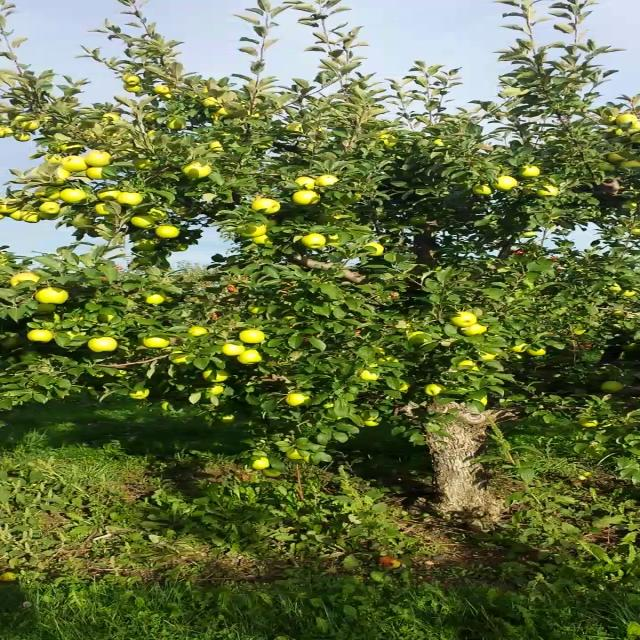apple: (35, 286, 71, 305), (178, 160, 210, 179), (250, 198, 282, 214), (86, 337, 118, 353), (457, 322, 488, 338), (61, 187, 88, 205), (85, 149, 111, 167), (300, 232, 326, 250), (60, 156, 88, 172), (7, 272, 39, 286), (292, 189, 320, 205), (142, 334, 171, 349), (492, 176, 519, 192), (241, 221, 267, 237), (237, 349, 263, 365), (452, 312, 478, 328), (48, 167, 71, 185), (17, 115, 41, 132), (33, 186, 62, 200), (116, 193, 145, 207), (24, 329, 53, 343), (240, 327, 265, 343), (153, 225, 181, 239), (285, 393, 312, 407), (203, 369, 230, 383), (94, 188, 120, 202), (165, 116, 187, 132), (129, 215, 155, 228), (518, 165, 542, 179), (404, 331, 432, 343), (37, 202, 64, 214), (70, 217, 94, 230), (424, 384, 449, 396), (316, 174, 340, 186), (252, 233, 276, 245), (294, 177, 316, 190), (145, 291, 167, 304), (208, 140, 228, 154), (364, 242, 384, 256), (471, 183, 494, 195), (536, 185, 559, 197), (1, 202, 20, 216), (222, 344, 244, 356), (93, 201, 111, 215), (130, 386, 151, 398), (251, 457, 269, 471), (85, 167, 104, 180), (201, 97, 223, 108), (615, 114, 637, 125), (601, 381, 623, 392), (122, 72, 142, 84), (44, 154, 62, 167), (23, 211, 41, 224), (577, 417, 598, 428), (215, 108, 238, 118), (134, 158, 153, 170), (247, 303, 266, 315), (606, 152, 628, 162), (172, 354, 192, 365), (133, 240, 155, 250), (359, 370, 380, 380), (381, 134, 396, 148), (508, 344, 529, 354), (122, 84, 142, 94), (522, 348, 546, 356), (102, 113, 121, 123), (187, 328, 210, 336), (12, 132, 30, 142), (620, 159, 638, 169), (285, 450, 303, 460), (212, 384, 226, 396), (152, 86, 170, 95), (1, 128, 17, 138), (264, 470, 284, 478), (477, 354, 496, 362), (374, 356, 399, 362), (362, 419, 380, 427), (170, 244, 188, 252), (8, 210, 22, 220), (222, 413, 236, 423), (373, 346, 386, 356), (57, 144, 73, 152), (396, 383, 412, 391), (456, 360, 474, 367), (607, 285, 622, 293), (626, 122, 639, 130), (302, 454, 312, 464), (144, 113, 156, 121), (433, 138, 445, 146), (622, 291, 638, 297), (611, 311, 625, 317), (160, 402, 168, 412), (162, 94, 172, 100), (146, 130, 156, 136), (200, 88, 208, 94)
